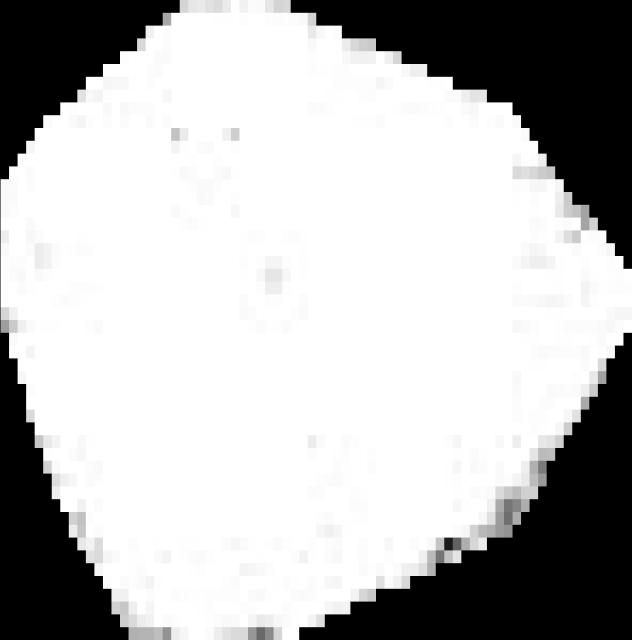tumor_good_chance: (1, 0, 632, 640)
